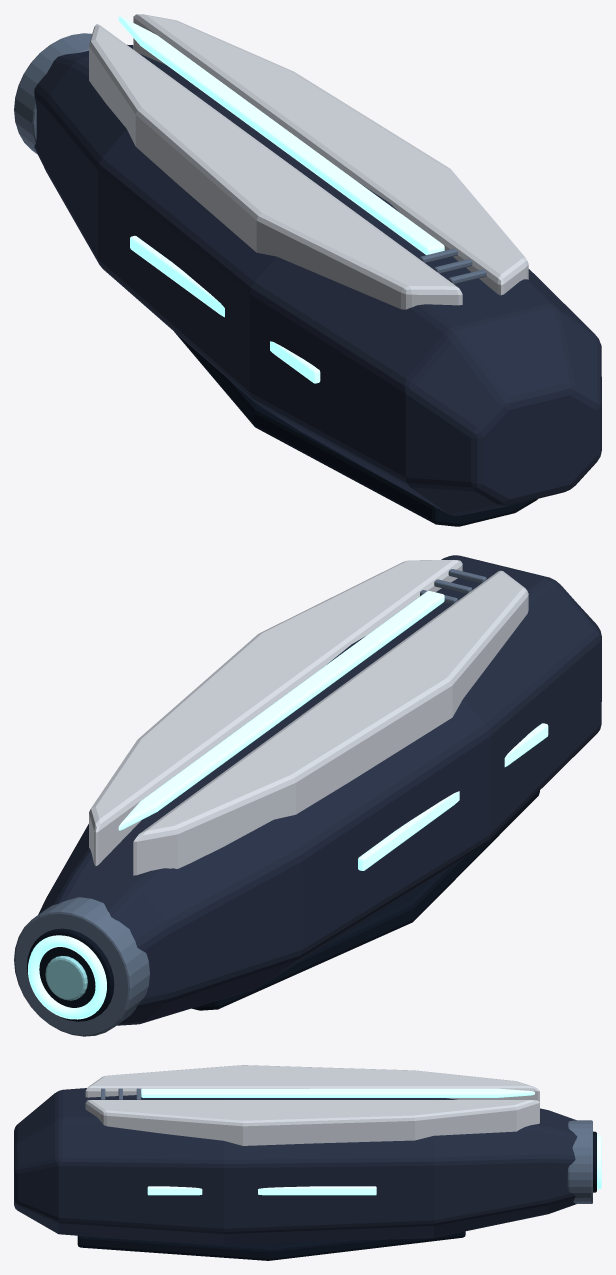
File: Ether_A.fbx
The picture shows the model from 3 angles, top to bottom: view 1: azimuth 30°, elevation 25°; view 2: azimuth 150°, elevation 25°; view 3: azimuth 270°, elevation 25°; orthographic projection. The views are drawn at different scales.
Parts seen in each view (by area): view 1: A_01_PalmShell, A_04_UpperPanel_L, A_03_UpperPanel_R, A_05_CentralChannel, A_02_Underside, A_07_EmitterHousing, A_06_SidePinstripe; view 2: A_01_PalmShell, A_04_UpperPanel_L, A_03_UpperPanel_R, A_07_EmitterHousing, A_05_CentralChannel, A_02_Underside, A_09_EmitterRing, A_08_EmitterRecess, A_06_SidePinstripe, A_10_OpticalCore; view 3: A_01_PalmShell, A_03_UpperPanel_R, A_04_UpperPanel_L, A_02_Underside, A_05_CentralChannel, A_07_EmitterHousing, A_06_SidePinstripe.001.
Part boxes in pixels (x1,y1,x2,y2): A_01_PalmShell: (34,44,601,515); A_04_UpperPanel_L: (89,24,462,309); A_03_UpperPanel_R: (133,14,528,295); A_05_CentralChannel: (118,16,444,254); A_02_Underside: (174,332,537,526); A_07_EmitterHousing: (14,33,91,154); A_06_SidePinstripe: (130,235,320,383); A_01_PalmShell: (38,555,601,1025); A_04_UpperPanel_L: (133,570,528,875); A_03_UpperPanel_R: (89,560,462,865); A_07_EmitterHousing: (14,897,149,1036); A_05_CentralChannel: (118,591,444,830); A_02_Underside: (192,790,539,1010); A_09_EmitterRing: (28,935,106,1019); A_08_EmitterRecess: (27,928,114,1021); A_06_SidePinstripe: (358,723,548,870); A_10_OpticalCore: (45,956,87,1000); A_01_PalmShell: (14,1088,577,1245); A_03_UpperPanel_R: (85,1100,539,1145); A_04_UpperPanel_L: (85,1065,539,1101); A_02_Underside: (77,1231,465,1260); A_05_CentralChannel: (141,1088,534,1097); A_07_EmitterHousing: (567,1120,592,1203); A_06_SidePinstripe.001: (147,1186,376,1195).
Size of the model in its own units: 0.027 by 0.0264 by 0.0924.
